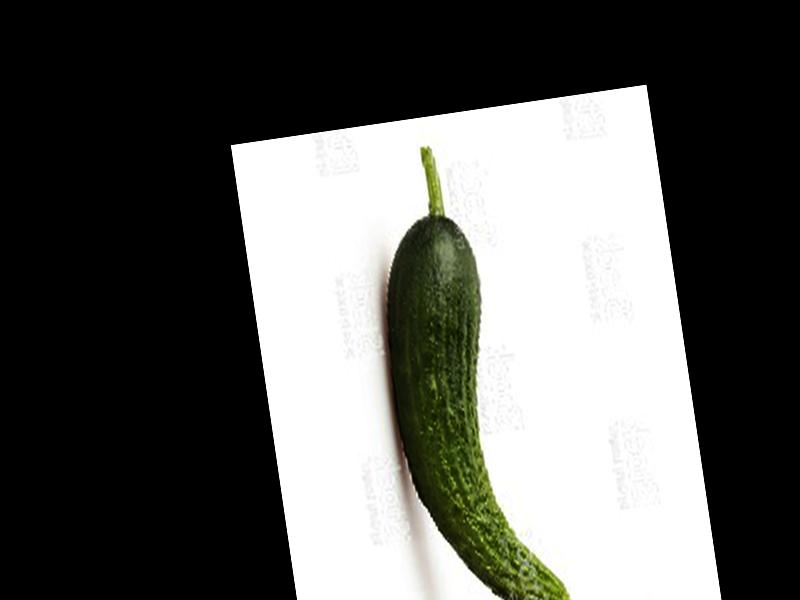Cucumber: (359, 135, 571, 600)
